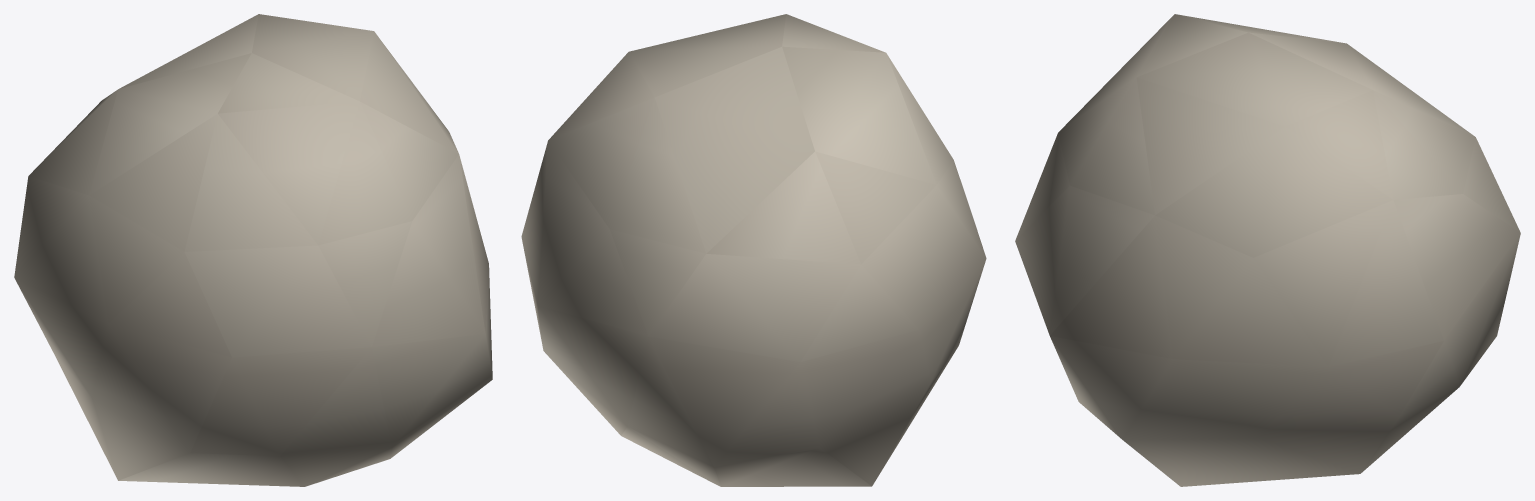
Rendered from SM_Rabbit_Tail.fbx.
3 views of the same model, side by side, from view 1: azimuth 30°, elevation 25°; view 2: azimuth 150°, elevation 25°; view 3: azimuth 270°, elevation 25° (orthographic). The views are drawn at different scales.
Parts seen in each view (by area): view 1: SM_Rabbit_Tail; view 2: SM_Rabbit_Tail; view 3: SM_Rabbit_Tail.
Part boxes in pixels (x1,y1,x2,y2): SM_Rabbit_Tail: (14,14,492,486); SM_Rabbit_Tail: (521,14,986,486); SM_Rabbit_Tail: (1015,14,1520,486).
Bounding box in the file's own units: 0.1968 × 0.1908 × 0.2063.
1 material, 1 textured.
